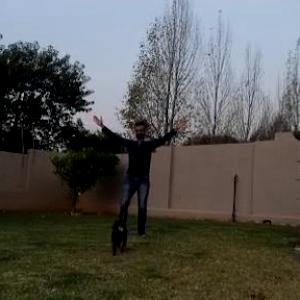takeoff: (95, 116, 187, 231)
